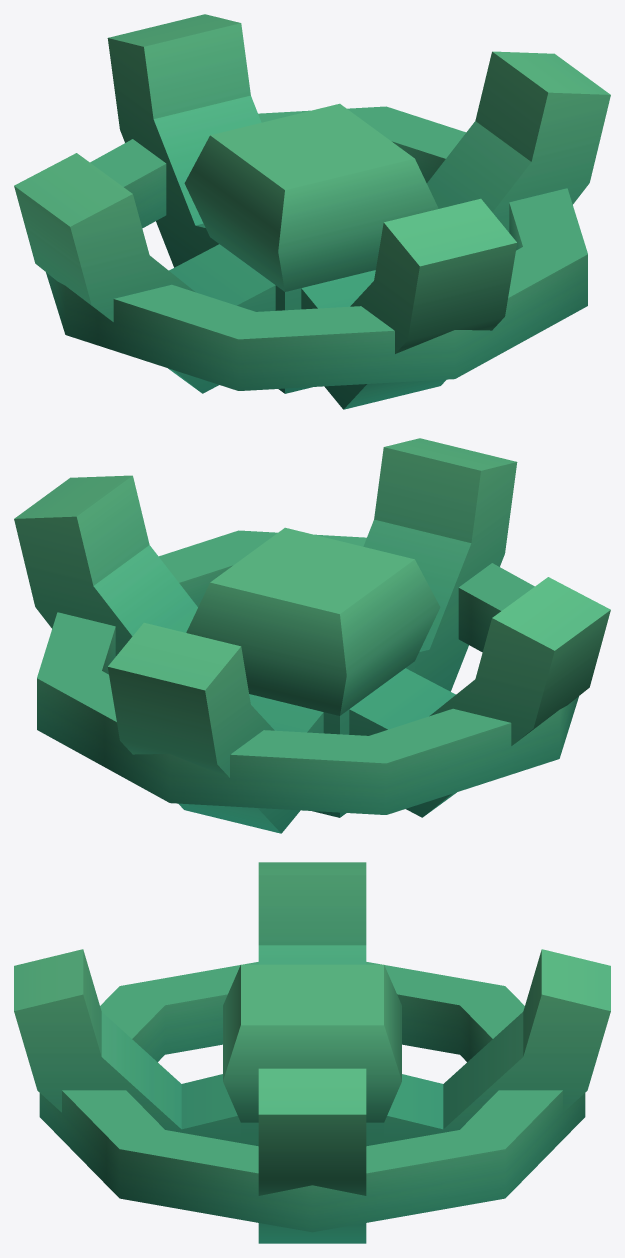
The model's file is fire_basket.glb.
The picture shows the model from 3 angles, top to bottom: view 1: azimuth 30°, elevation 25°; view 2: azimuth 150°, elevation 25°; view 3: azimuth 270°, elevation 25°; orthographic projection. The views are drawn at different scales.
Parts seen in each view (by area): view 1: fire-basket; view 2: fire-basket; view 3: fire-basket.
Part boxes in pixels (x1,y1,x2,y2): fire-basket: (14,14,610,409); fire-basket: (14,438,610,833); fire-basket: (14,862,610,1243).
Bounding box in the file's own units: 0.4166 × 0.1678 × 0.4166.
Materials: 1 (1 with a texture image).
